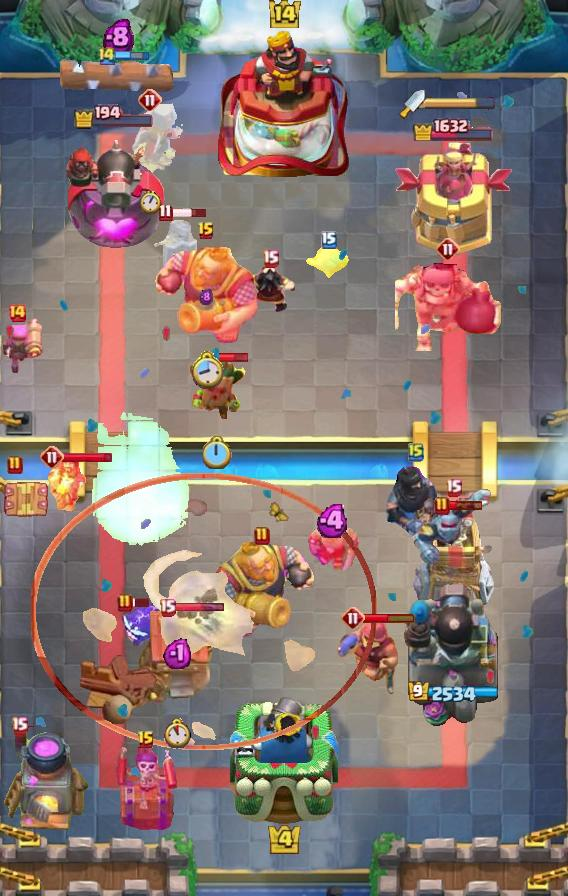archer: (306, 520, 362, 570)
bar: (395, 142, 514, 256)
bat: (305, 243, 353, 281)
bowler: (47, 456, 87, 514)
electro-giant: (394, 258, 501, 351)
electro-spirit: (316, 504, 352, 538), (102, 18, 133, 55), (163, 636, 191, 669), (199, 288, 213, 306)
elixir: (188, 349, 224, 389), (204, 435, 233, 468), (162, 718, 192, 749), (140, 190, 161, 214)
elixir-golem-small: (411, 486, 495, 564)
emote: (63, 452, 114, 465), (364, 612, 417, 624), (173, 602, 225, 613), (171, 207, 209, 219), (114, 50, 149, 62), (215, 353, 250, 364), (449, 500, 484, 511), (131, 596, 151, 608)
fireball: (335, 615, 401, 697)
giant-skeleton: (206, 538, 319, 642), (150, 244, 262, 346)
goblin-barrel: (188, 356, 246, 420)
goblin-brawler: (0, 477, 50, 523)
hunter: (0, 726, 90, 834)
inferno-dragon: (384, 464, 448, 547)
king-tower: (218, 27, 350, 181), (230, 692, 338, 826)
king-tower-bar: (425, 97, 495, 111)
lumberjack: (243, 263, 297, 315)
mega-knight: (91, 411, 193, 548)
minion: (53, 54, 183, 96)
poison: (109, 102, 191, 176)
princess: (150, 209, 200, 273)
royal-ghost: (31, 474, 377, 751)
selected: (408, 681, 501, 705), (413, 115, 496, 141), (73, 104, 155, 130)
skeleton-king-bar: (115, 744, 177, 830)
sparky: (134, 610, 220, 708)
spear-goblin: (119, 604, 161, 650)
text: (138, 88, 162, 112), (436, 237, 460, 261), (40, 445, 64, 469), (341, 606, 365, 630), (97, 45, 117, 67), (7, 303, 27, 323), (197, 221, 215, 241), (137, 730, 155, 750), (261, 248, 279, 267), (160, 598, 177, 617), (408, 442, 424, 462), (7, 455, 23, 475), (434, 496, 450, 516), (254, 526, 270, 546), (117, 593, 133, 613), (446, 479, 463, 497), (11, 717, 28, 735), (321, 231, 337, 249), (159, 203, 174, 221)
tombstone: (0, 316, 44, 376)
tower-bar: (402, 579, 504, 731), (60, 132, 167, 256)
zappy: (412, 502, 497, 624)
